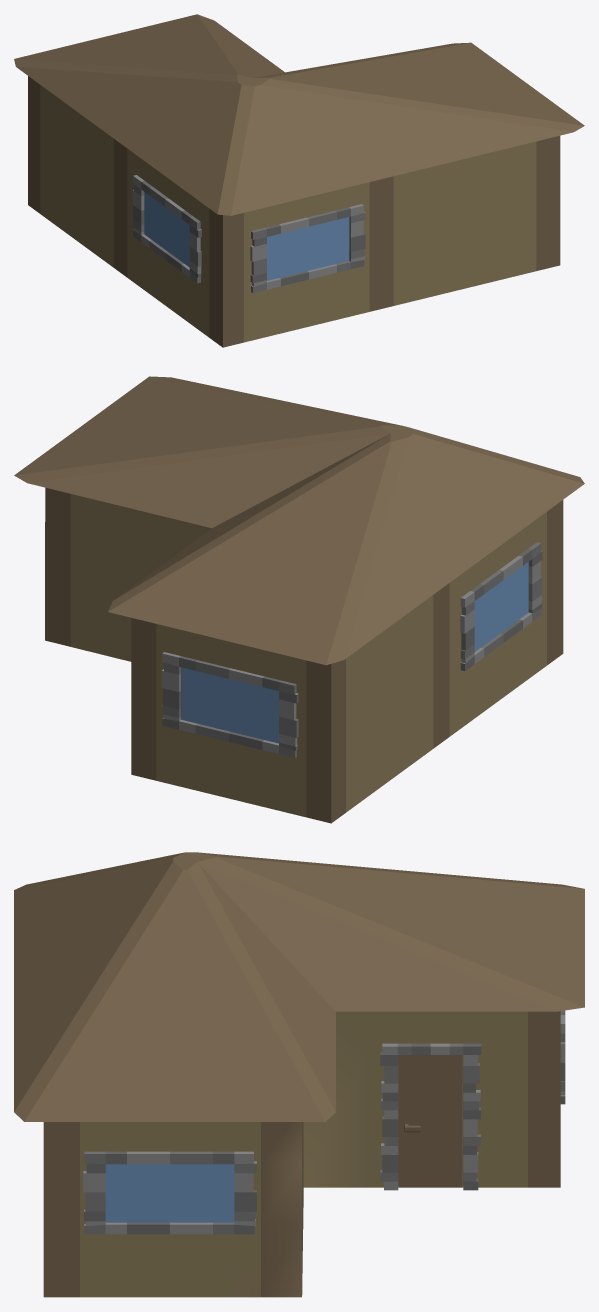
The model's file is CasaGrande.fbx.
3 renders of one model, top to bottom at view 1: azimuth 30°, elevation 25°; view 2: azimuth 150°, elevation 25°; view 3: azimuth 270°, elevation 25°, orthographic. The views are drawn at different scales.
Visible parts, largest first — view 1: Cube, Casa, Ventana, VoraVentana, VoraVentana.001, Ventana.001; view 2: Cube, Casa, Ventana, VoraVentana, VoraVentana.001, Ventana.001; view 3: Cube, Casa, Puerta, Ventana.001, VoraVentana.001, VoraPuerta.
Part boxes in pixels (<box>): Cube: <box>14,14,584,215</box>; Casa: <box>28,76,560,347</box>; Ventana: <box>267,217,349,280</box>; VoraVentana: <box>250,204,365,292</box>; VoraVentana.001: <box>132,175,201,283</box>; Ventana.001: <box>144,192,189,267</box>; Cube: <box>14,376,584,665</box>; Casa: <box>45,487,563,823</box>; Ventana: <box>181,667,278,743</box>; VoraVentana: <box>161,652,298,757</box>; VoraVentana.001: <box>460,542,542,670</box>; Ventana.001: <box>474,562,528,651</box>; Cube: <box>14,852,584,1121</box>; Casa: <box>43,1011,560,1297</box>; Puerta: <box>398,1055,462,1187</box>; Ventana.001: <box>105,1164,234,1222</box>; VoraVentana.001: <box>83,1151,256,1234</box>; VoraPuerta: <box>380,1043,481,1190</box>.
Size of the model in its own units: 650 by 349 by 661.
